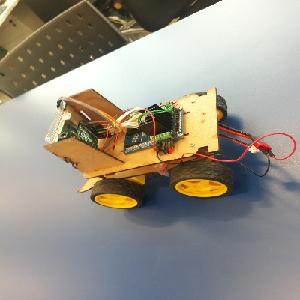Robot: (43, 88, 232, 208)
